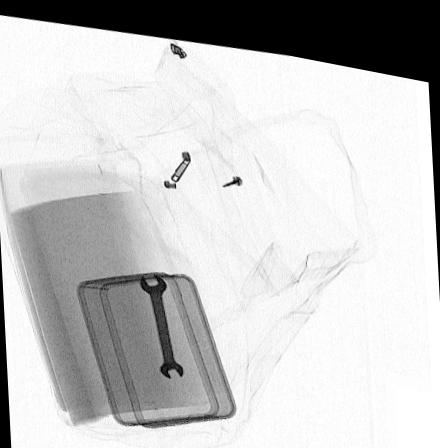Wrench: (139, 267, 185, 372)
